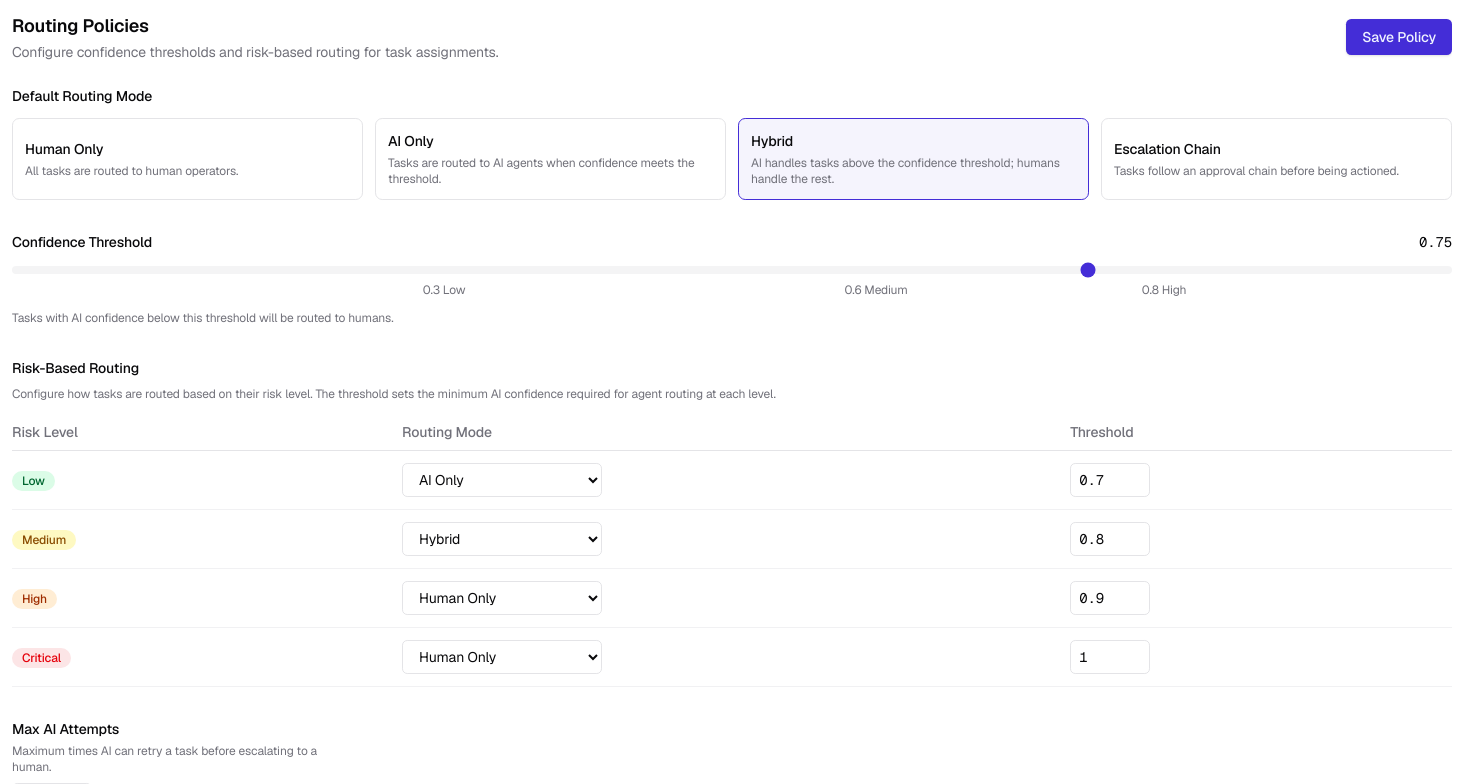
Scenario: Save functionality › shows error banner on save failure
Step 1. Click the button "Save Policy" → (1399,37), box 1346,19 -> 1452,55
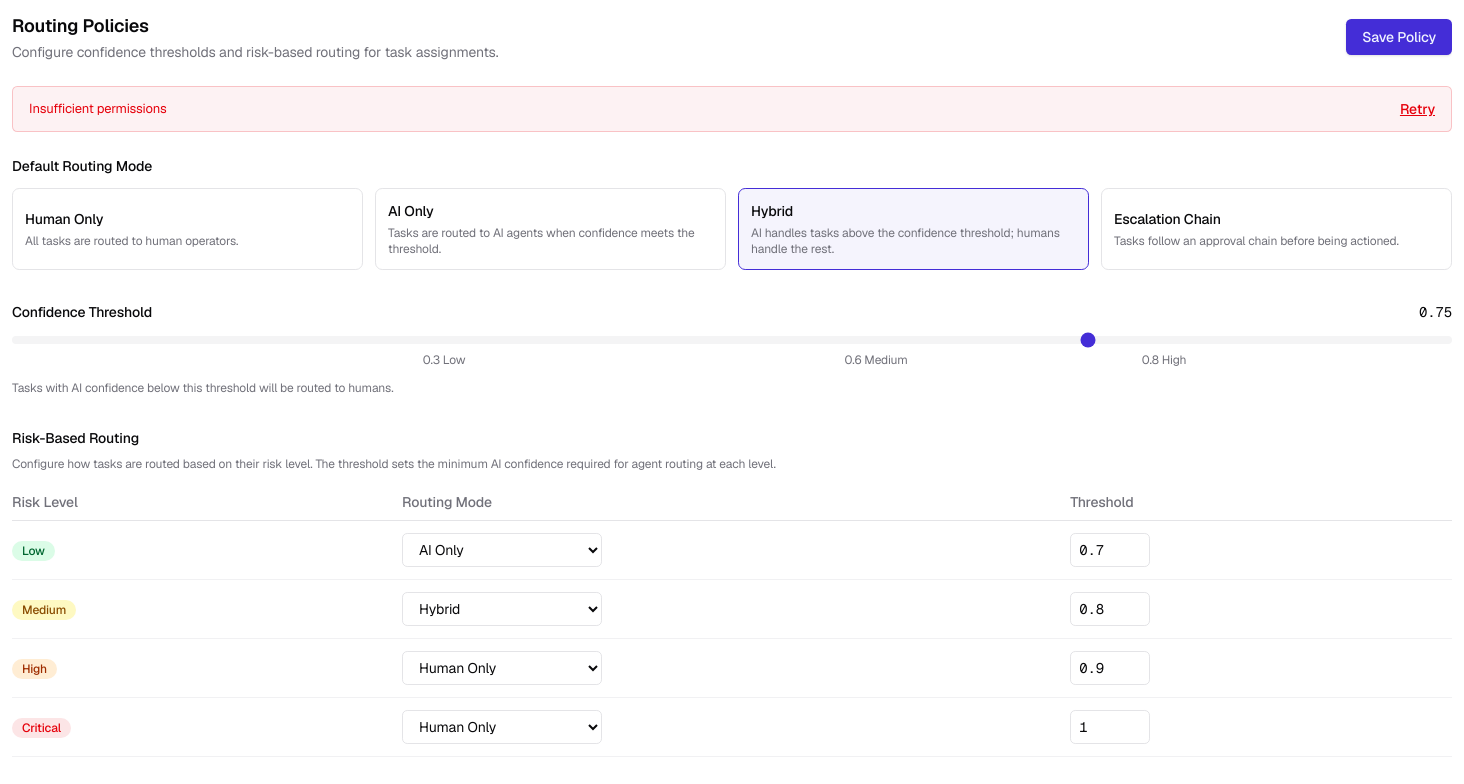
Expected: the message "Insufficient permissions Retry" is shown, 12,86 -> 1452,132
Expected: the text "Insufficient permissions" is shown, 29,99 -> 167,119
